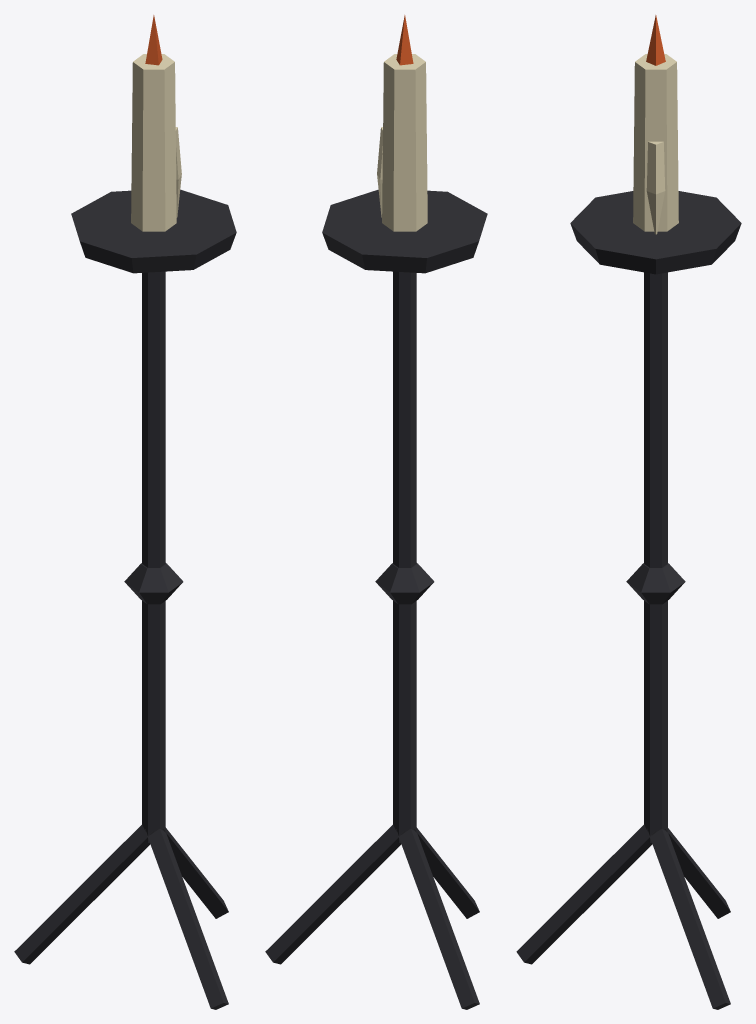
Rendered from CandleStand.fbx.
3 renders of one model, left to right at view 1: azimuth 30°, elevation 25°; view 2: azimuth 150°, elevation 25°; view 3: azimuth 270°, elevation 25°, orthographic.
Visible parts, largest first — view 1: CandleStand; view 2: CandleStand; view 3: CandleStand.
Part boxes in pixels (x1,y1,x2,y2): CandleStand: (14, 15, 236, 1009); CandleStand: (265, 15, 487, 1009); CandleStand: (516, 15, 741, 1009).
Bounding box in the file's own units: 0.3669 × 1.59 × 0.3418.
